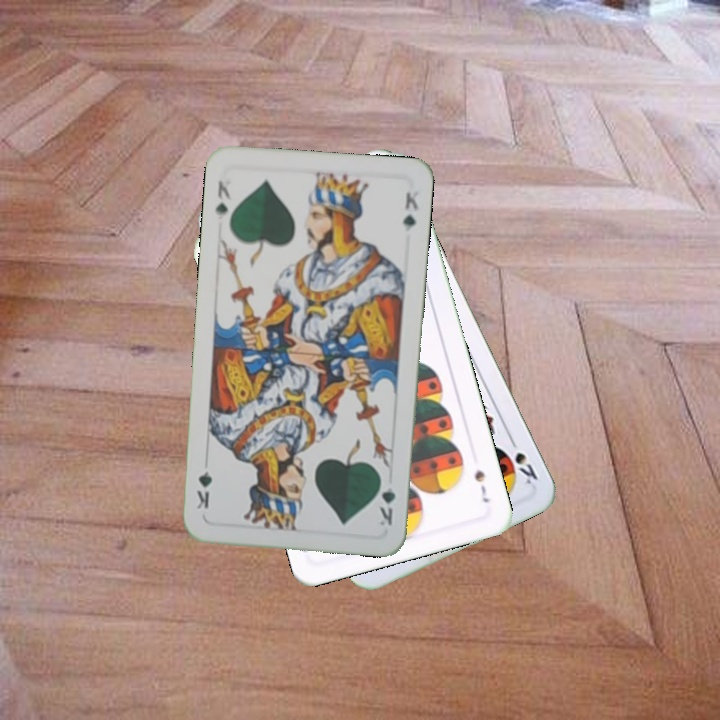GK: (375, 471, 398, 528), (211, 177, 234, 218)
S7: (470, 465, 493, 506)
SK: (505, 432, 541, 487)
